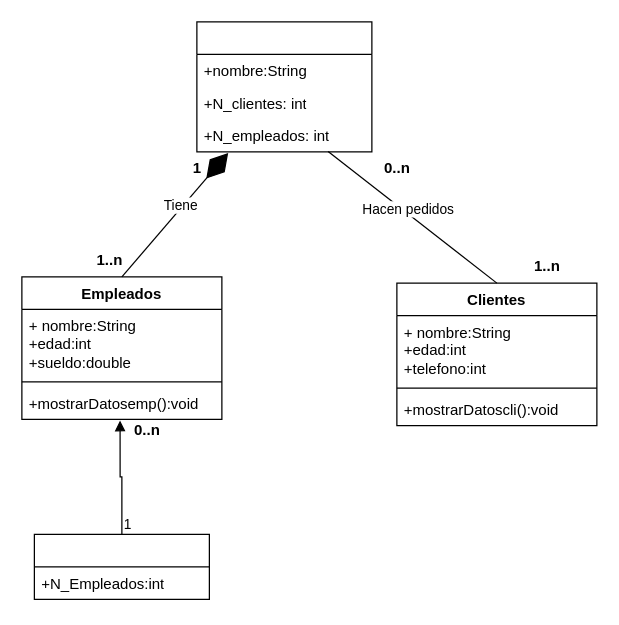
This 619x625 diagram has some shape labels left out. The shapes that lost their labels are listed below. From the top down, each one's box as (x1, y1, x2, y2) in pixels, then its label:
(196, 21, 372, 152): Empresas
(33, 533, 209, 599): Directivo
